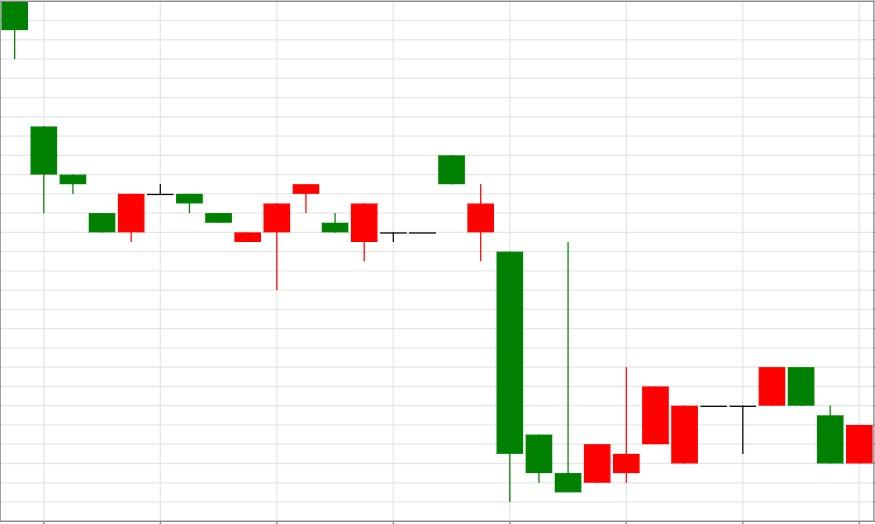bullish_engulfing_rise: (0, 0, 146, 243)
inverse_hammer_rise: (437, 155, 583, 503)
